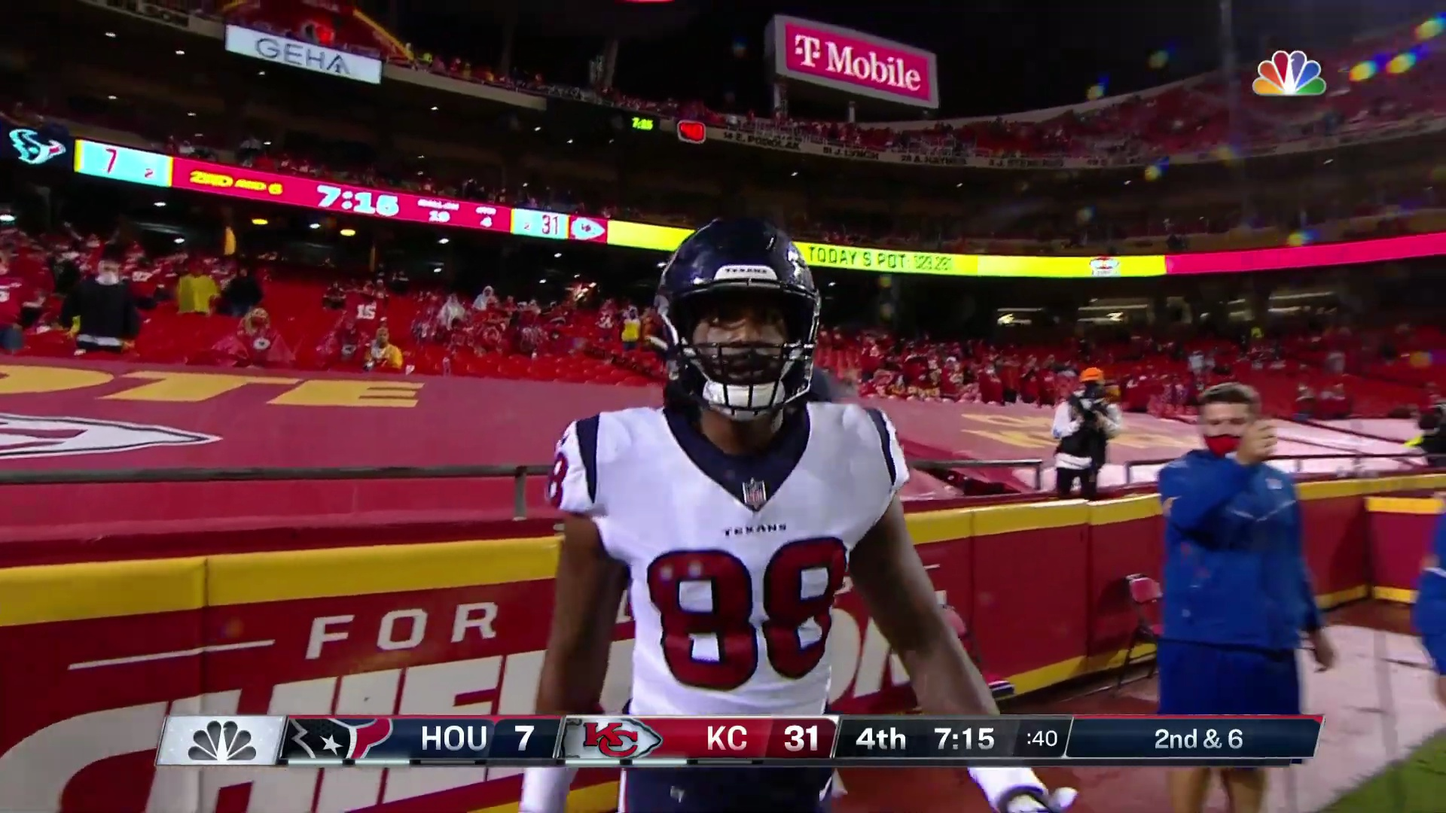Player: (551, 269, 981, 773)
